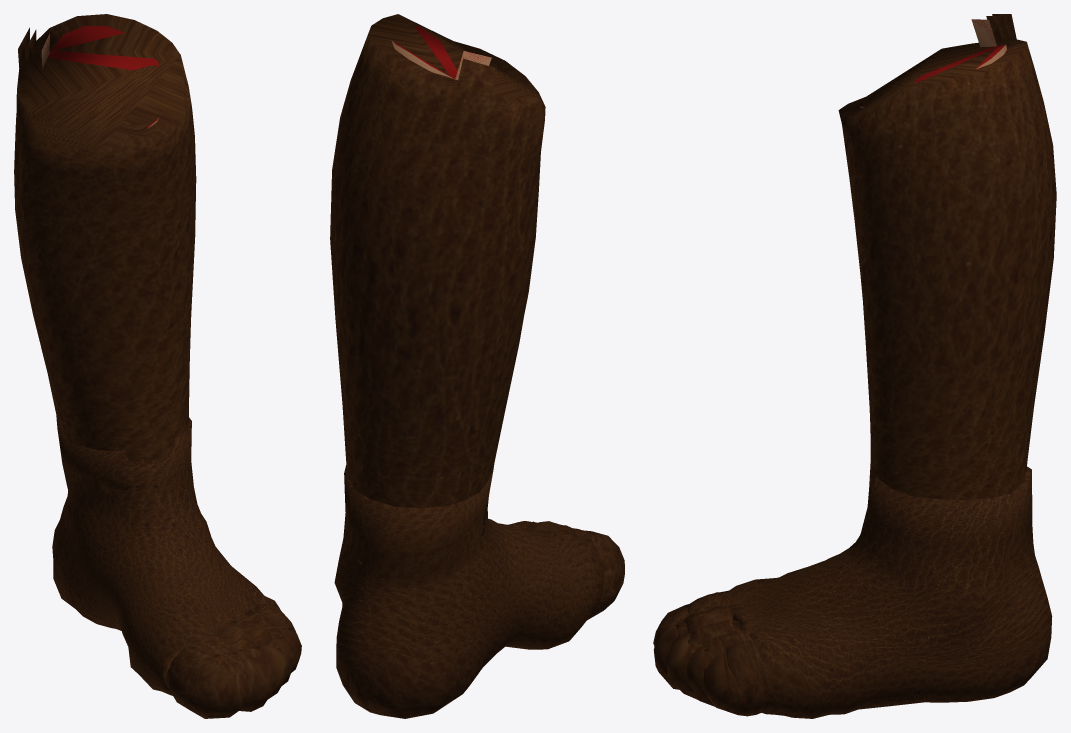
File: SM_Part_M2_leg_l.gltf
The picture shows the model from 3 angles, left to right: view 1: azimuth 30°, elevation 25°; view 2: azimuth 150°, elevation 25°; view 3: azimuth 270°, elevation 25°; orthographic projection. The views are drawn at different scales.
Visible parts, largest first — view 1: SM_Part_M2_leg_l; view 2: SM_Part_M2_leg_l; view 3: SM_Part_M2_leg_l.
Boxes of the visible parts, x1,y1,x2,y2 form: SM_Part_M2_leg_l: (14, 14, 301, 718); SM_Part_M2_leg_l: (330, 14, 624, 718); SM_Part_M2_leg_l: (653, 14, 1056, 718).
Bounding box in the file's own units: 0.1687 × 0.5249 × 0.2975.
Materials: 4 (2 with a texture image).
